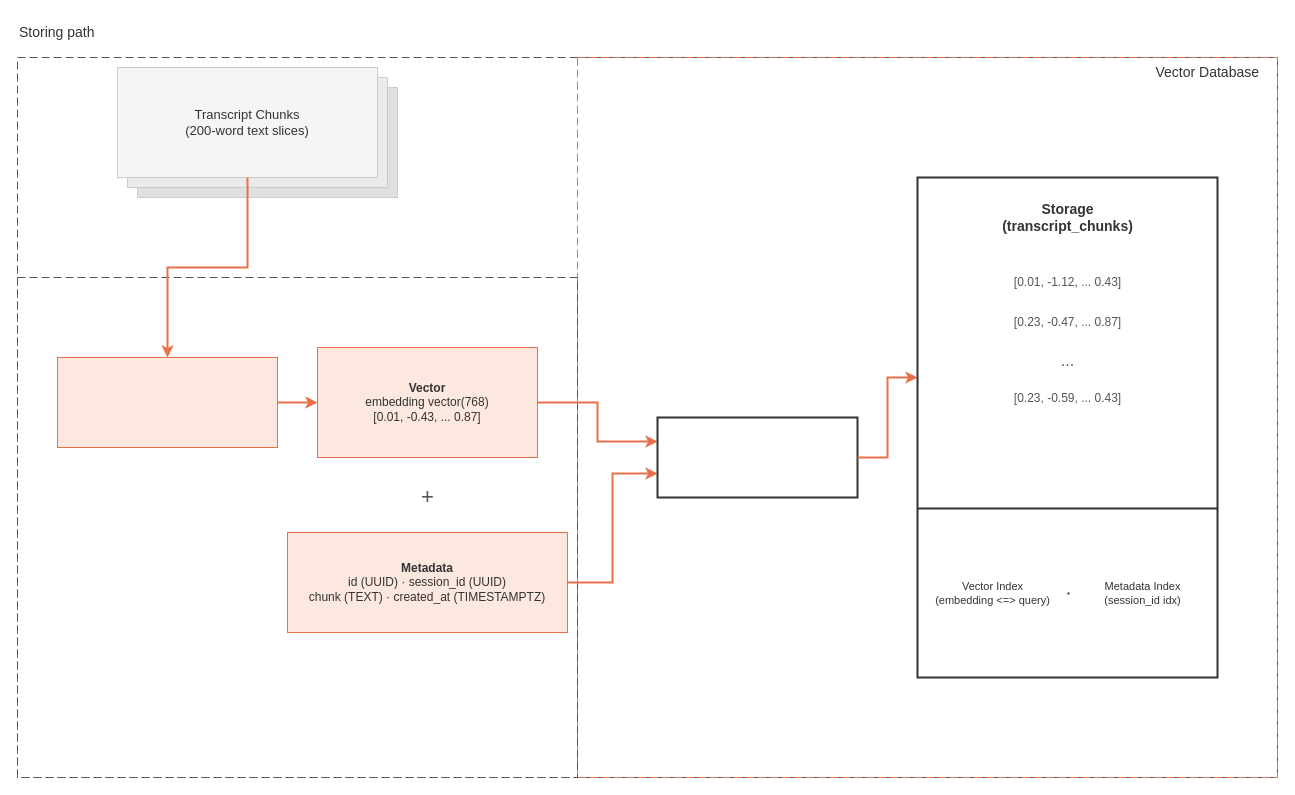
This 1295x795 diagram has some shape labels left out. The shapes that lost their labels are listed below. From the top down, each one's centre as x and y in pixels, then its label:
the point at 167,402: nomic-embed-text (Embedding Model)
the point at 757,457: Indexing (asyncpg executemany)
